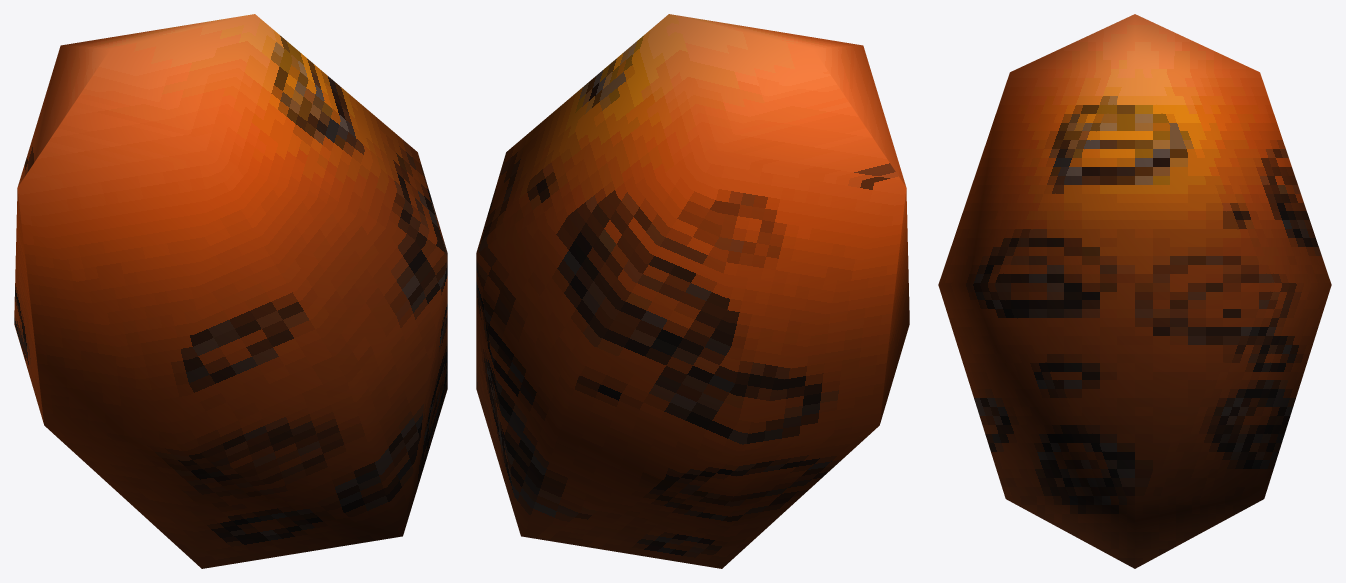
The model's file is OrangeBean.fbx.
3 views of the same model, side by side, from view 1: azimuth 30°, elevation 25°; view 2: azimuth 150°, elevation 25°; view 3: azimuth 270°, elevation 25° (orthographic). The views are drawn at different scales.
Visible parts, largest first — view 1: material_0; view 2: material_0; view 3: material_0.
Boxes of the visible parts, x1,y1,x2,y2 form: material_0: (14,14,447,568); material_0: (476,14,909,568); material_0: (938,14,1331,568).
Bounding box in the file's own units: 979 × 1200 × 938.
